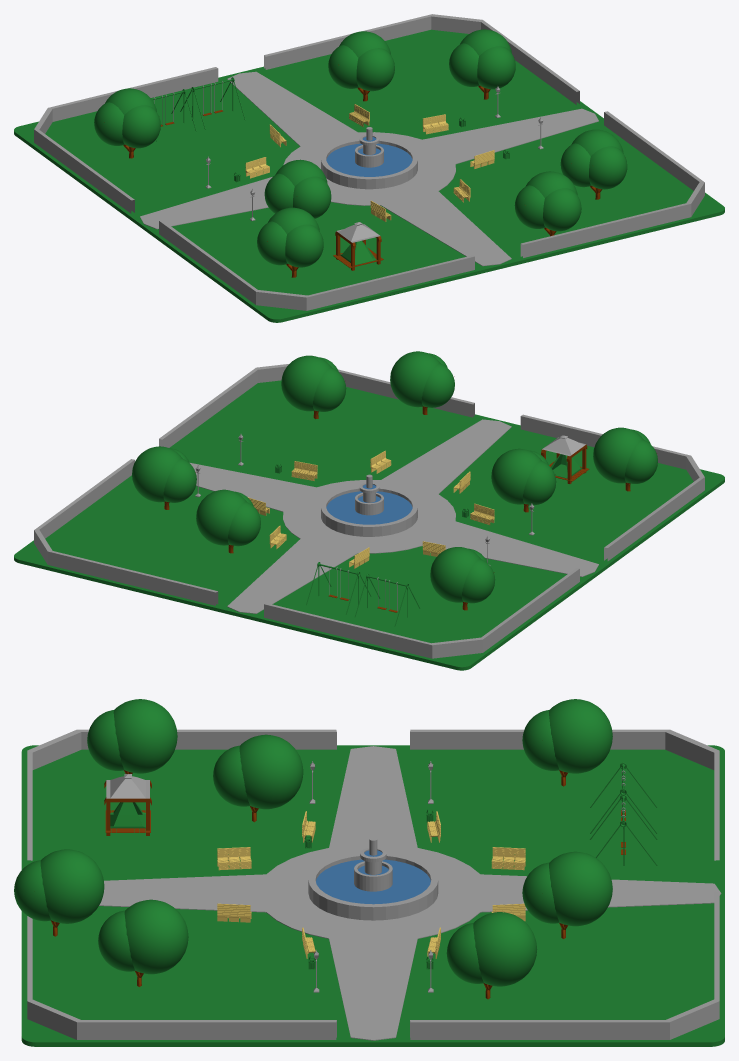
The model's file is Park.fbx.
The picture shows the model from 3 angles, top to bottom: view 1: azimuth 30°, elevation 25°; view 2: azimuth 150°, elevation 25°; view 3: azimuth 270°, elevation 25°; orthographic projection. The views are drawn at different scales.
Parts seen in each view (by area): view 1: Cube, Cube.001, Cube.002, Sphere.003, Sphere.006, Sphere.001, Sphere.002, Sphere.007, Sphere.004, Sphere.005, Cylinder, Bench_Cube.008 (+2 smaller); view 2: Cube, Cube.001, Cube.002, Sphere.007, Sphere.003, Sphere.002, Sphere.005, Sphere.001, Sphere.006, Sphere.004, Cylinder, Bench_Cube.008 (+2 smaller); view 3: Cube, Cube.001, Cube.002, Sphere.004, Sphere.003, Sphere.006, Sphere.001, Sphere.005, Sphere.007, Sphere.002, Cylinder, Bench_Cube.008 (+4 smaller).
Part boxes in pixels (x1,y1,x2,y2): Cube: [14, 29, 724, 322]; Cube.001: [140, 71, 598, 266]; Cube.002: [34, 14, 704, 310]; Sphere.003: [328, 31, 394, 91]; Sphere.006: [514, 171, 581, 231]; Sphere.001: [257, 207, 323, 267]; Sphere.002: [94, 88, 160, 148]; Sphere.007: [449, 29, 515, 89]; Sphere.004: [560, 129, 627, 189]; Sphere.005: [264, 159, 331, 218]; Cylinder: [321, 127, 417, 189]; Bench_Cube.008: [245, 104, 494, 221]; Cube: [14, 380, 724, 670]; Cube.001: [190, 419, 598, 613]; Cube.002: [34, 364, 704, 658]; Sphere.007: [132, 446, 196, 502]; Sphere.003: [196, 489, 260, 546]; Sphere.002: [430, 547, 495, 603]; Sphere.005: [491, 448, 556, 505]; Sphere.001: [593, 427, 657, 483]; Sphere.006: [390, 351, 454, 407]; Sphere.004: [281, 355, 346, 411]; Cylinder: [321, 474, 417, 536]; Bench_Cube.008: [248, 450, 494, 568]; Cube: [21, 745, 724, 1046]; Cube.001: [99, 746, 721, 1040]; Cube.002: [27, 729, 719, 1039]; Sphere.004: [98, 899, 188, 974]; Sphere.003: [522, 851, 612, 926]; Sphere.006: [14, 849, 104, 923]; Sphere.001: [87, 699, 177, 773]; Sphere.005: [213, 734, 303, 809]; Sphere.007: [446, 912, 537, 986]; Sphere.002: [522, 699, 612, 773]; Cylinder: [308, 837, 438, 920]; Bench_Cube.008: [217, 811, 525, 958].
Size of the model in its own units: 50.01 by 7.02 by 50.57.
